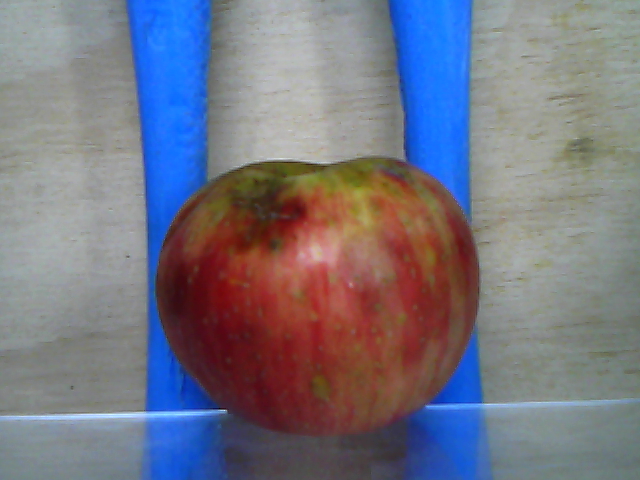cut: (232, 180, 304, 248)
